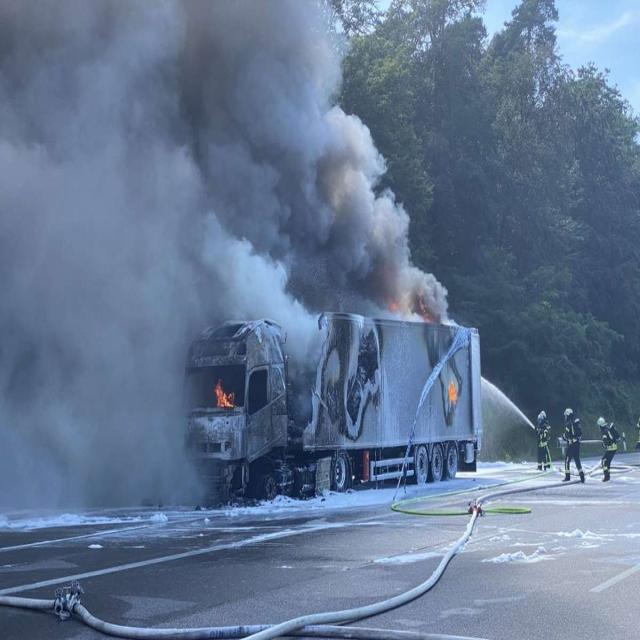Smoke: (14, 16, 180, 474), (210, 21, 338, 312)
